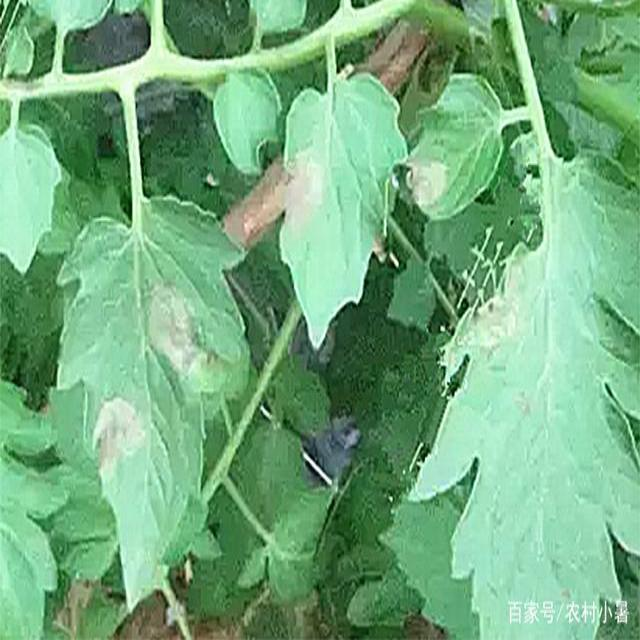Early_blight: (471, 250, 533, 353), (146, 279, 207, 379), (90, 391, 144, 488), (286, 139, 331, 245), (405, 146, 451, 213)
